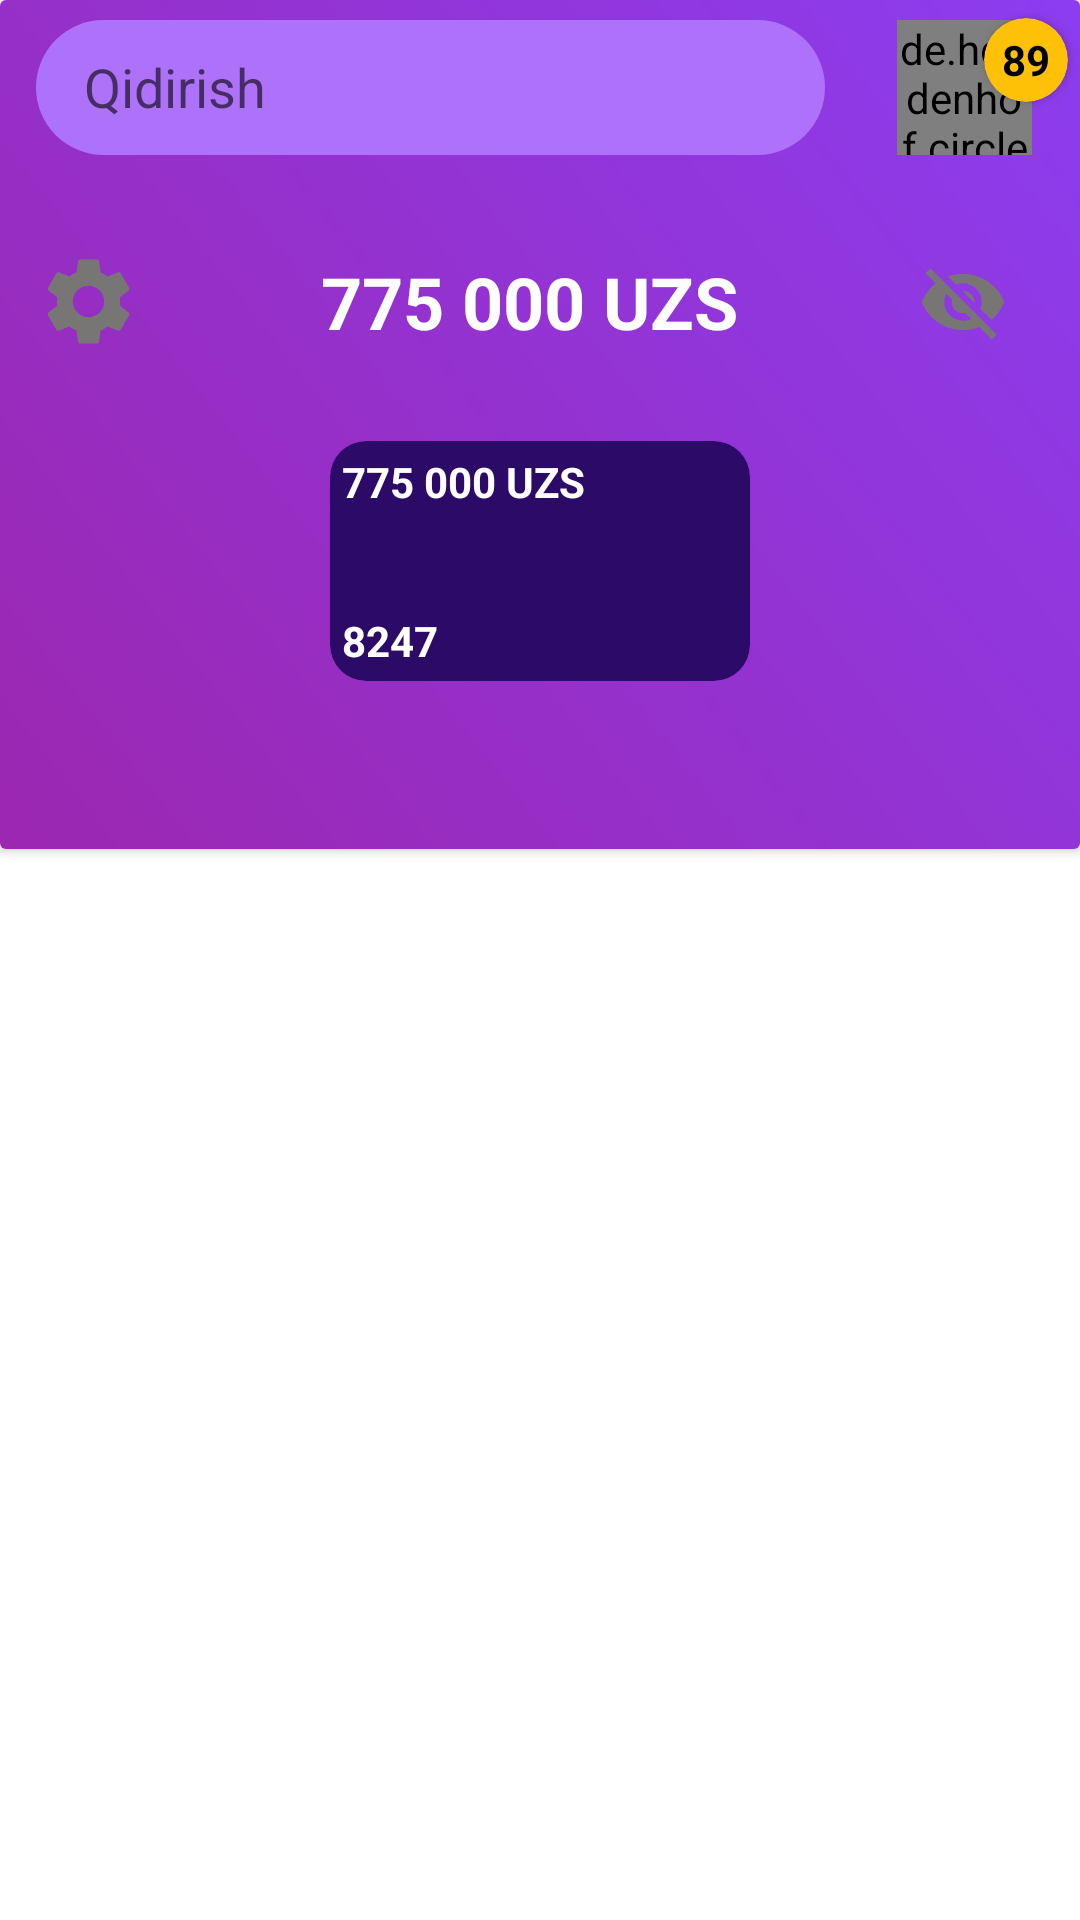

Named icons in this screenshot (1080 x 1920) and their centers, (x,y):
settings: (88,301)
visibility off: (963,303)
